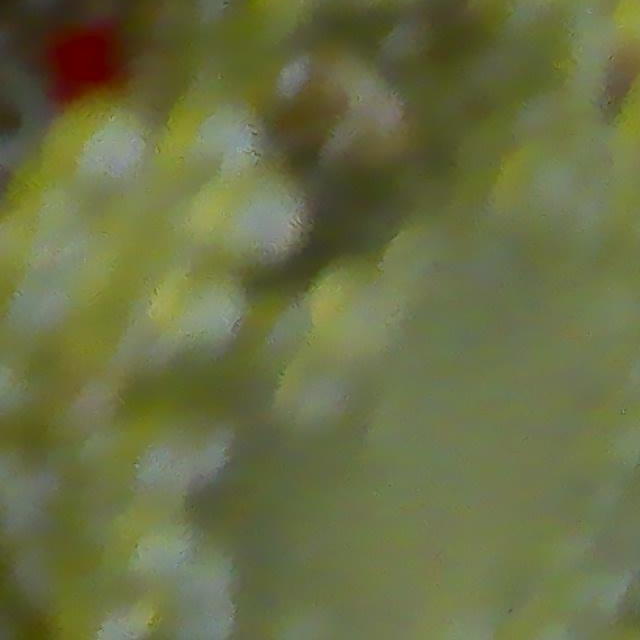SeaGrape: (40, 91, 158, 201), (210, 161, 313, 268), (0, 352, 47, 430)
